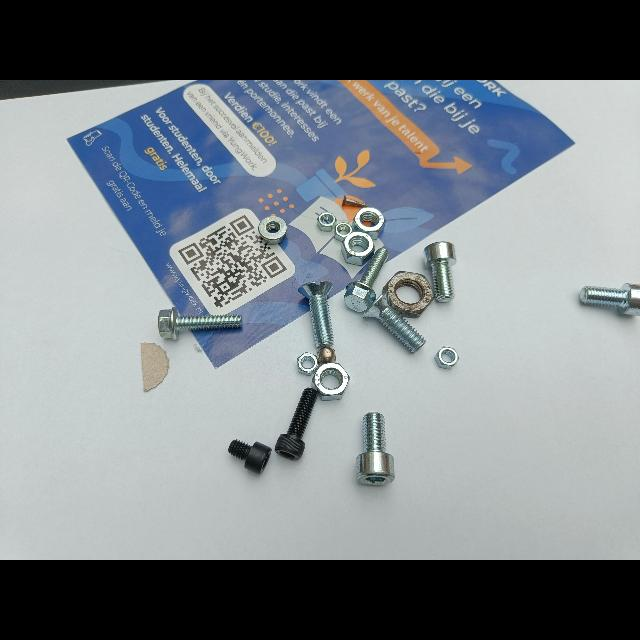bolt: (363, 292, 425, 353), (274, 388, 318, 460), (344, 247, 388, 312), (356, 412, 394, 486), (158, 307, 242, 340), (298, 281, 334, 348), (424, 241, 456, 302), (580, 283, 640, 315), (228, 439, 272, 474), (342, 195, 369, 209)
nuts: (383, 272, 435, 318), (312, 362, 350, 401), (341, 231, 377, 266), (351, 207, 385, 240), (258, 215, 287, 245), (435, 346, 459, 369), (297, 352, 320, 376), (317, 343, 338, 367), (316, 212, 337, 232), (334, 222, 352, 242)
